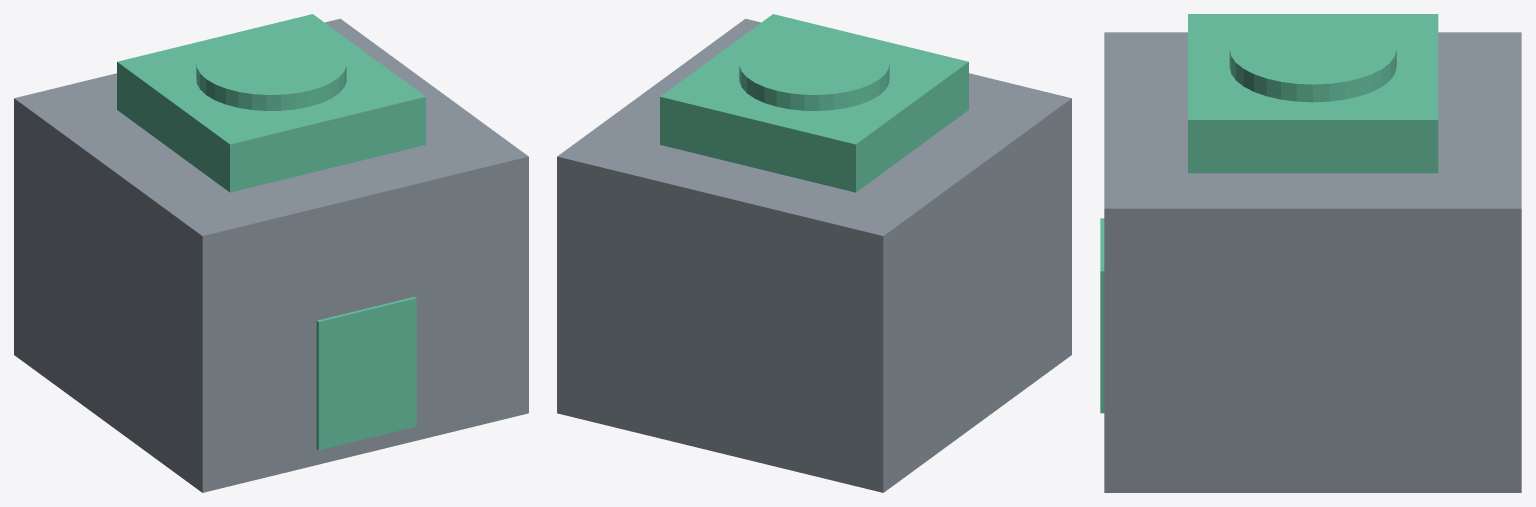
File: CO_SuperweaponSeismic_LOD0.glb
3 views of the same model, side by side, from view 1: azimuth 30°, elevation 25°; view 2: azimuth 150°, elevation 25°; view 3: azimuth 270°, elevation 25° (orthographic). The views are drawn at different scales.
Visible parts, largest first — view 1: EntranceGate; view 2: EntranceGate; view 3: EntranceGate.
Boxes of the visible parts, <box> form: EntranceGate: <box>14,14,528,492</box>; EntranceGate: <box>557,14,1071,492</box>; EntranceGate: <box>1100,14,1521,492</box>.
Size of the model in its own units: 1000 by 940 by 1010.
